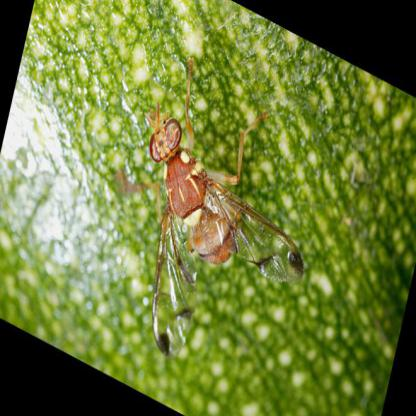fruit fly: (144, 57, 302, 364)
